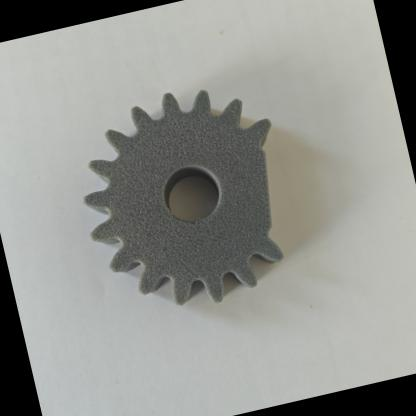defect: (213, 118, 327, 276)
gear: (52, 60, 345, 338)
